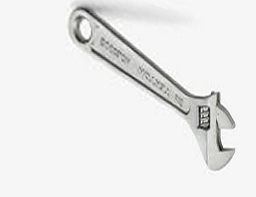Wrench: (62, 4, 247, 175)
